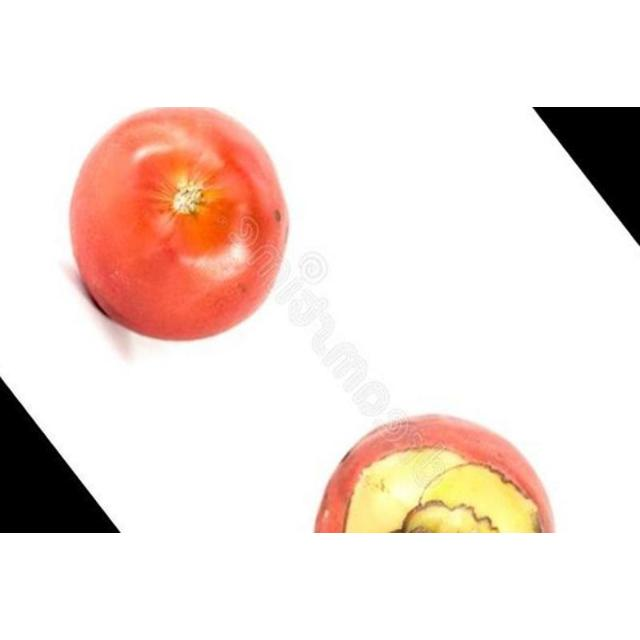good: (66, 107, 290, 344), (312, 414, 559, 533)
